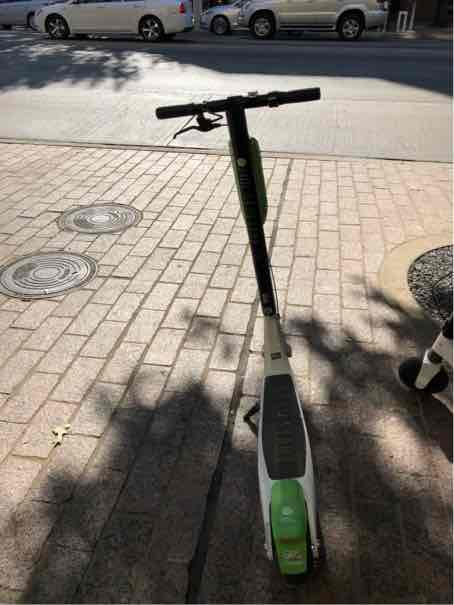scooter: (151, 79, 345, 578)
